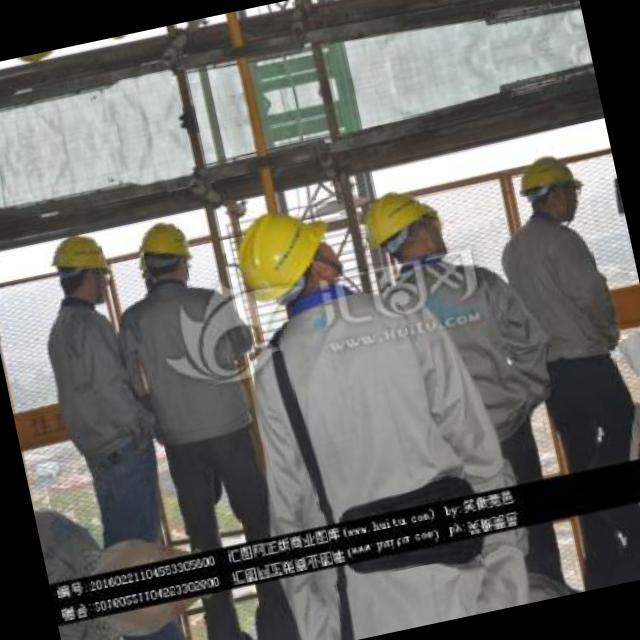helmet: (225, 190, 358, 317), (350, 174, 458, 279), (509, 146, 598, 234), (42, 223, 120, 314), (126, 215, 200, 296)
